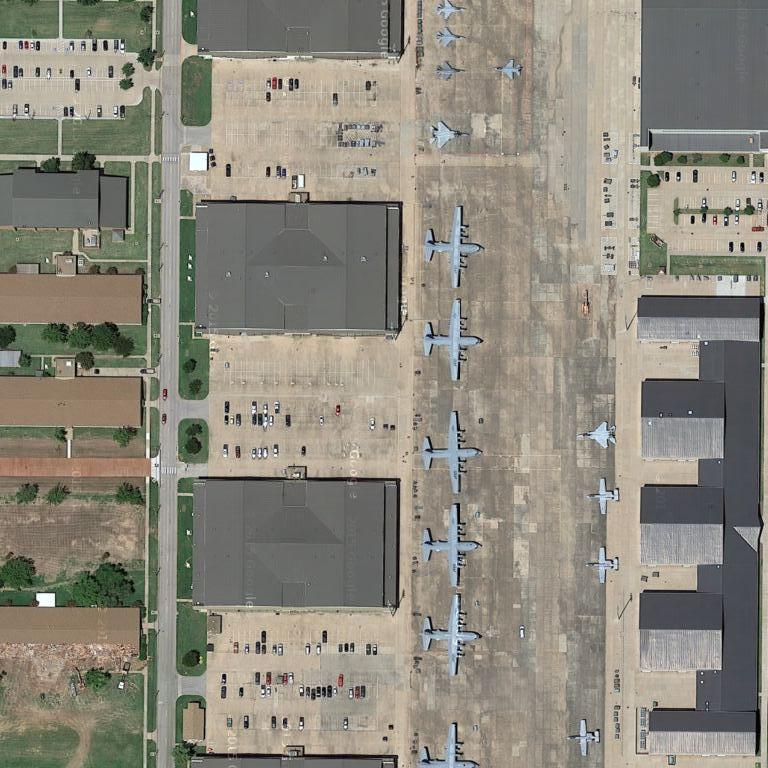A-10: (567, 714, 602, 761), (587, 474, 621, 519), (588, 542, 620, 588)
C-130: (417, 590, 485, 681), (418, 499, 484, 589), (421, 297, 484, 386), (422, 202, 483, 291), (422, 407, 483, 495)
F-15: (578, 417, 619, 451)
F-16: (431, 22, 468, 49), (431, 57, 468, 83), (491, 55, 523, 85), (435, 1, 468, 23)
F/A-18: (424, 115, 473, 152)
